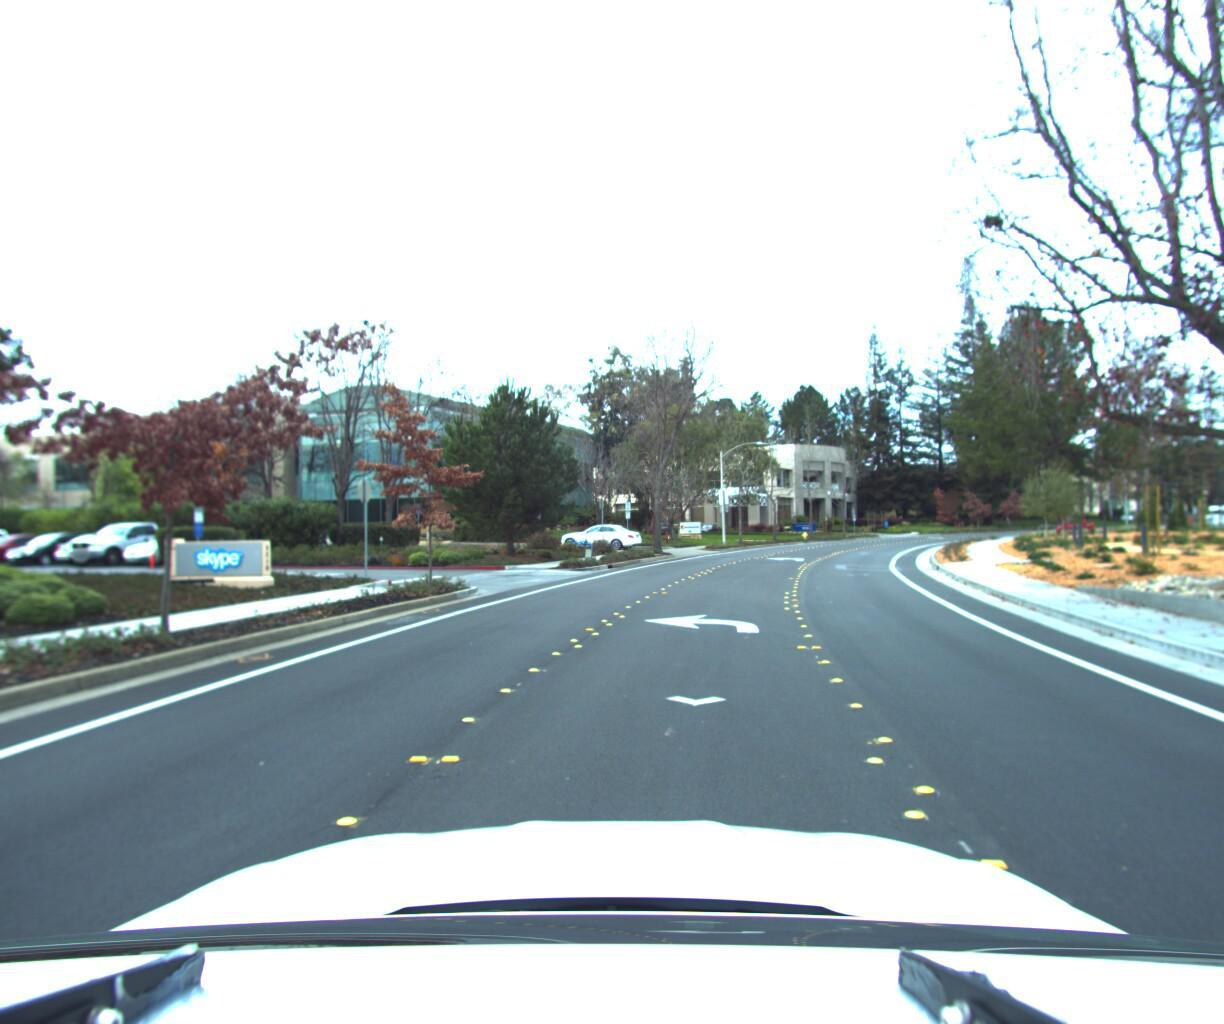car: (559, 520, 645, 552)
